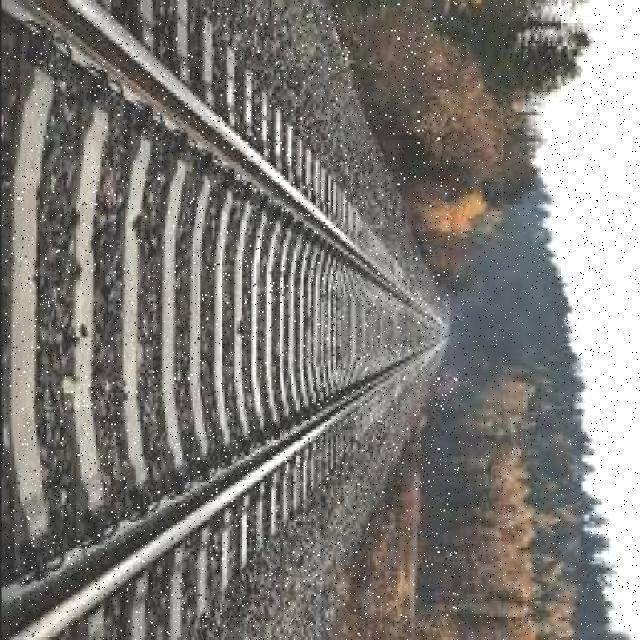rail: (5, 2, 456, 636)
